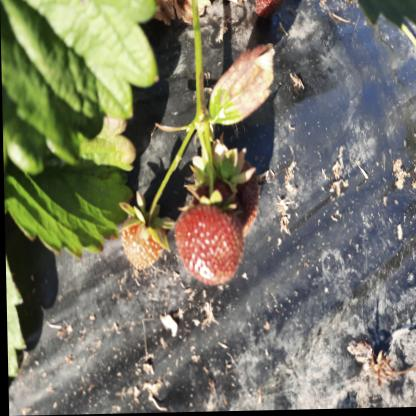ripe: (173, 202, 246, 286), (121, 218, 157, 267)
